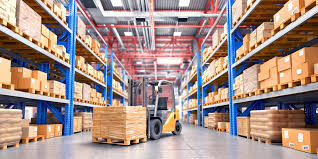Pallet Jack: (92, 76, 182, 147)
